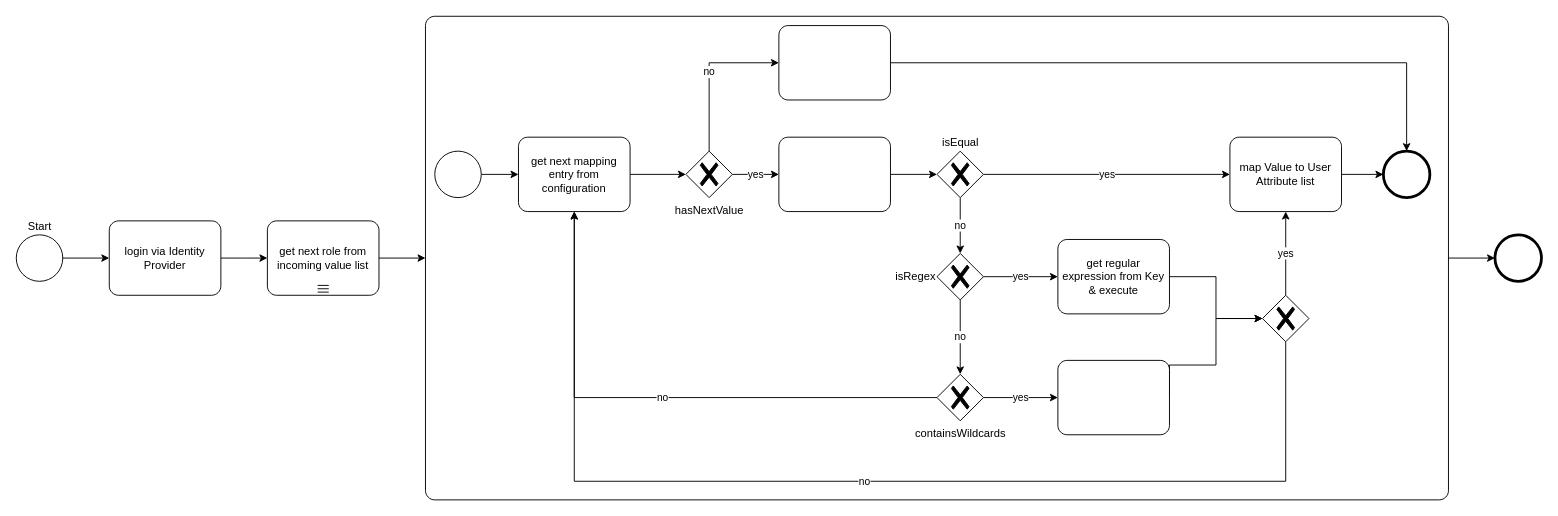
Image size: 1558x516. Some labels were removed from this diagram. Each missing label, with the box of its shape:
compare incoming value with mapping Key: (778, 136, 890, 212)
End: (1382, 150, 1430, 198)
ignore incoming value: (778, 25, 890, 100)
matches: (1262, 294, 1309, 342)
translate wildcards to regular expression & execute: (1057, 359, 1169, 435)
